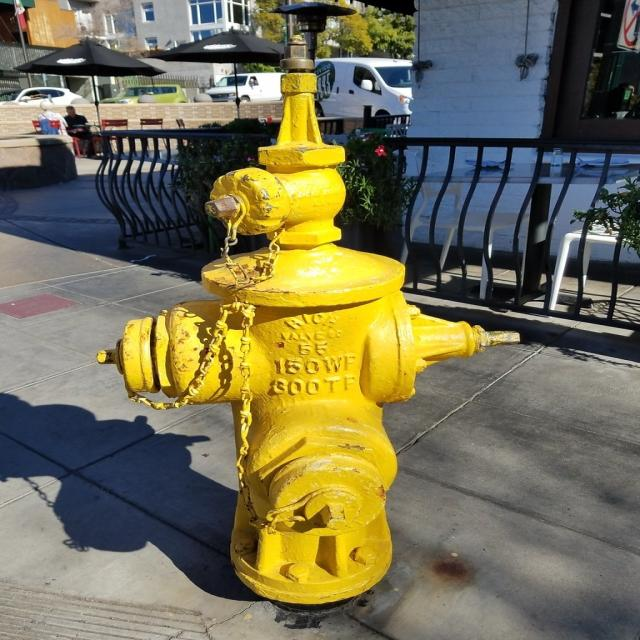fire_hydrant: (39, 42, 493, 605)
